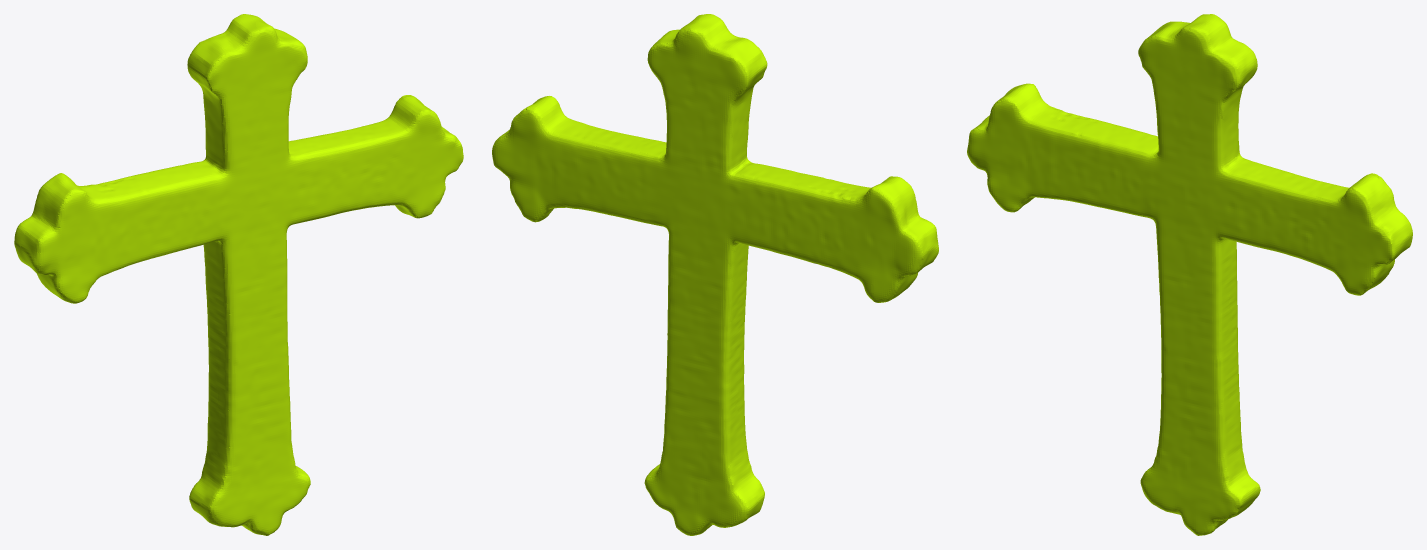
File: crucifix.glb
3 views of the same model, side by side, from view 1: azimuth 30°, elevation 25°; view 2: azimuth 150°, elevation 25°; view 3: azimuth 330°, elevation 25° (orthographic).
Visible parts, largest first — view 1: 5a82a068-a2ba-4827-afd8-dc383a4ff782; view 2: 5a82a068-a2ba-4827-afd8-dc383a4ff782; view 3: 5a82a068-a2ba-4827-afd8-dc383a4ff782.
Boxes of the visible parts, bbox=[...] form: 5a82a068-a2ba-4827-afd8-dc383a4ff782: bbox=[14, 14, 463, 535]; 5a82a068-a2ba-4827-afd8-dc383a4ff782: bbox=[492, 14, 938, 535]; 5a82a068-a2ba-4827-afd8-dc383a4ff782: bbox=[967, 14, 1412, 535].
Bounding box in the file's own units: 1.75 × 1.97 × 0.1682.
